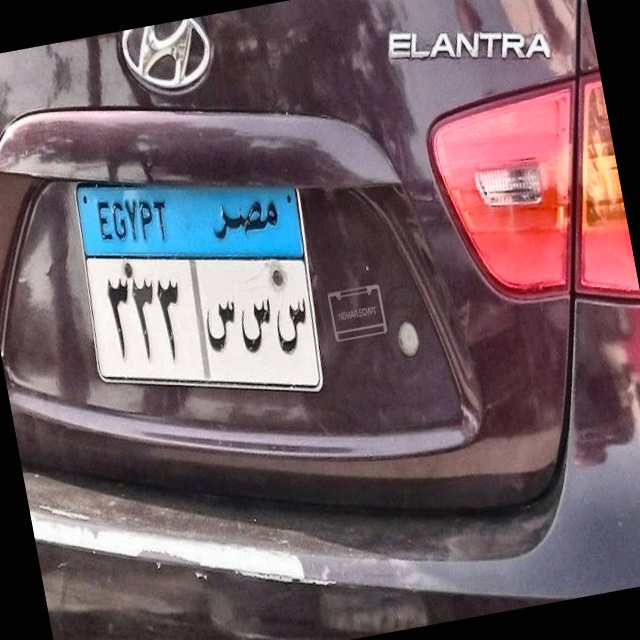License Plate: (57, 133, 340, 437)
